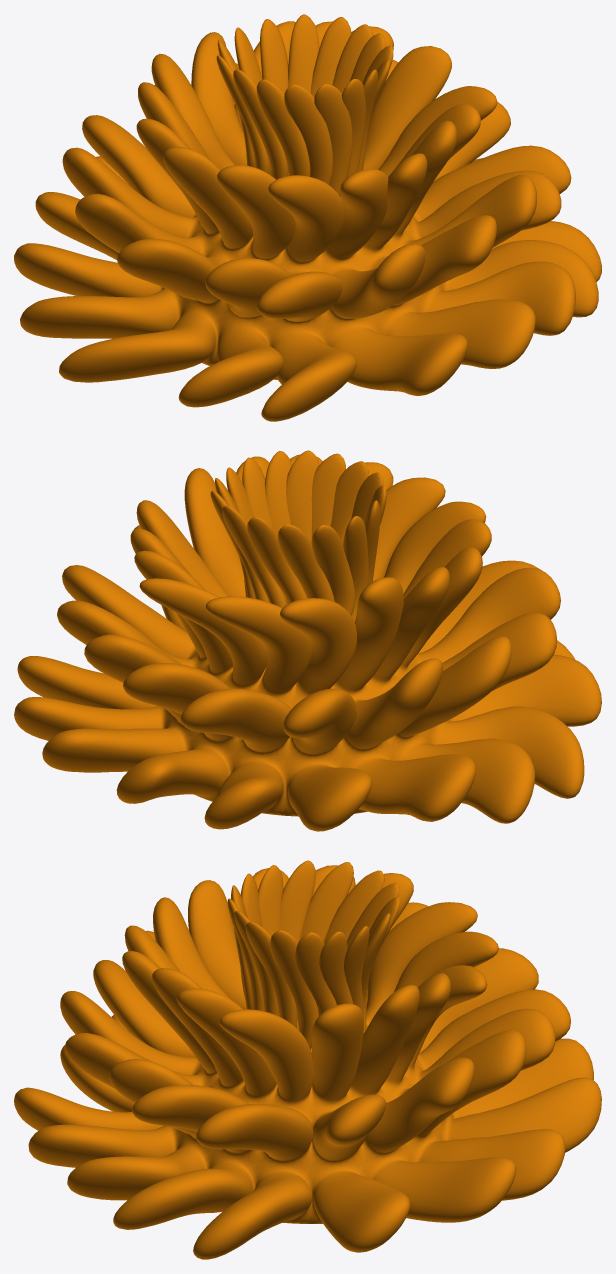
File: flower1.fbx
3 views of the same model, one above another, from view 1: azimuth 30°, elevation 25°; view 2: azimuth 150°, elevation 25°; view 3: azimuth 270°, elevation 25° (orthographic).
Parts seen in each view (by area): view 1: organic_19_quads_:Mesh; view 2: organic_19_quads_:Mesh; view 3: organic_19_quads_:Mesh.
Boxes of the visible parts, x1,y1,x2,y2 form: organic_19_quads_:Mesh: [14, 14, 601, 421]; organic_19_quads_:Mesh: [14, 450, 601, 831]; organic_19_quads_:Mesh: [14, 860, 601, 1259].
Size of the model in its own units: 586 by 297 by 587.
